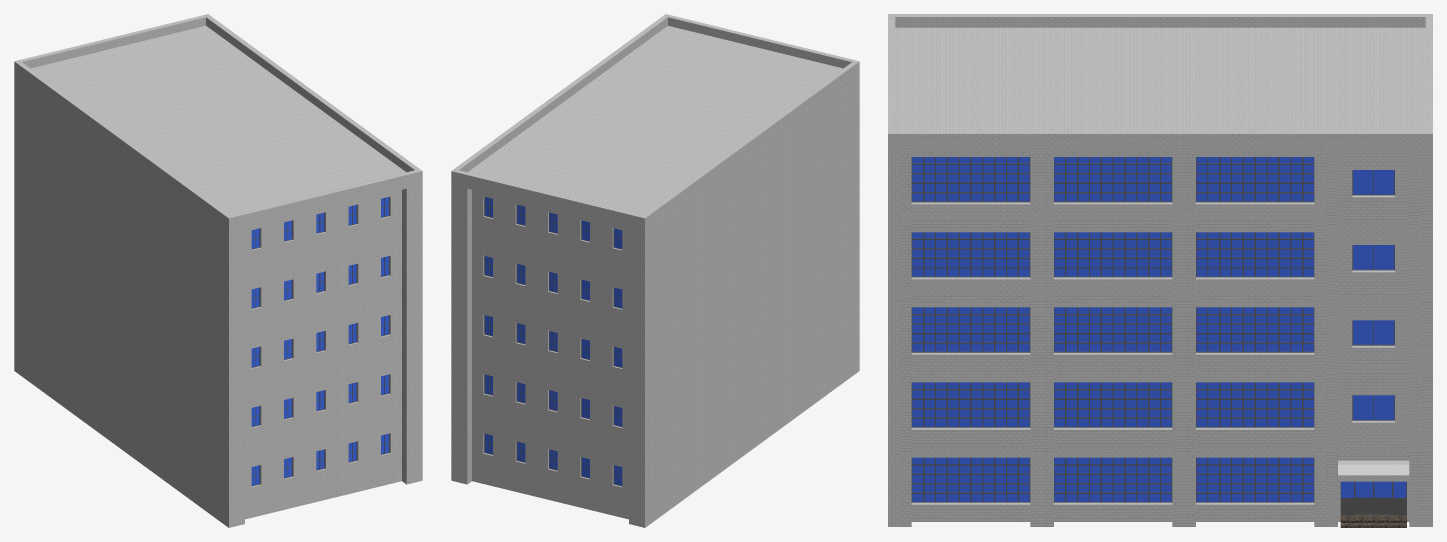
File: Building_002.fbx
The picture shows the model from 3 angles, left to right: view 1: azimuth 30°, elevation 25°; view 2: azimuth 150°, elevation 25°; view 3: azimuth 270°, elevation 25°; orthographic projection. The views are drawn at different scales.
Visible parts, largest first — view 1: 平面.117, 平面.128, 平面.042, 平面.073, 平面.084, 平面.106, 平面.020; view 2: 平面.117, 平面.128, 平面.021, 平面.006, 平面.053, 平面.095, 平面.004; view 3: 平面.128, 立方体.031, 立方体.035, 立方体.037, 立方体.039, 立方体.026, 立方体.028, 立方体.008, 立方体.010, 立方体.020, 立方体.022, 立方体.025 (+55 smaller).
Boxes of the visible parts, x1,y1,x2,y2 form: 平面.117: (19,78,224,524); 平面.128: (14,14,422,231); 平面.042: (224,362,422,468); 平面.073: (224,421,422,527); 平面.084: (224,303,422,409); 平面.106: (224,244,422,350); 平面.020: (224,184,422,290); 平面.117: (649,78,854,524); 平面.128: (451,14,859,231); 平面.021: (451,362,649,468); 平面.006: (451,421,649,527); 平面.053: (451,303,649,409); 平面.095: (451,244,649,350); 平面.004: (451,184,649,290); 平面.128: (888,14,1432,151); 立方体.031: (1326,371,1420,451); 立方体.035: (1326,296,1420,376); 立方体.037: (1326,221,1420,301); 立方体.039: (1326,151,1420,226); 立方体.026: (1042,221,1184,301); 立方体.028: (1184,221,1326,301); 立方体.008: (1042,371,1184,451); 立方体.010: (1184,371,1326,451); 立方体.020: (1042,296,1184,376); 立方体.022: (1184,296,1326,376); 立方体.025: (900,221,1041,301).
Bounding box in the file's own units: 1230 × 1830 × 2300.
5 materials, 3 textured.
